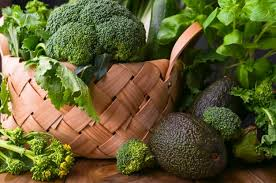aguacate: (150, 111, 233, 181)
